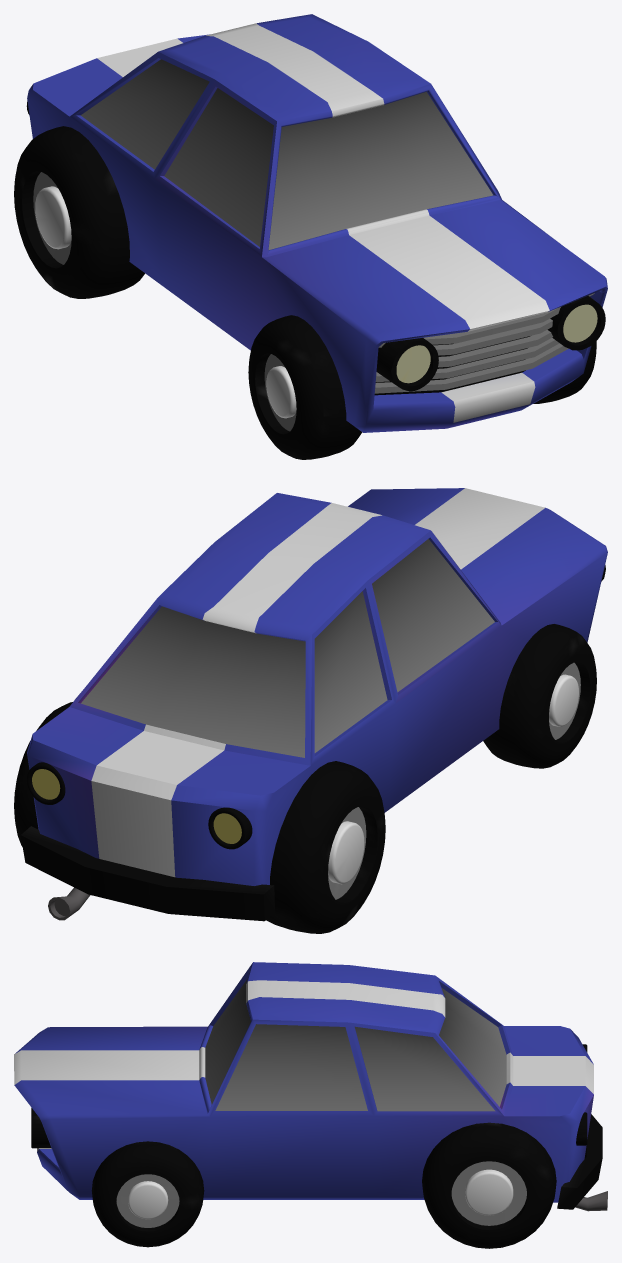
The model's file is carro2.fbx.
3 views of the same model, one above another, from view 1: azimuth 30°, elevation 25°; view 2: azimuth 150°, elevation 25°; view 3: azimuth 270°, elevation 25° (orthographic). The views are drawn at different scales.
Visible parts, largest first — view 1: Carro.Azul; view 2: Carro.Azul; view 3: Carro.Azul.
Part boxes in pixels (<box>): Carro.Azul: <box>14,14,607,459</box>; Carro.Azul: <box>14,488,607,933</box>; Carro.Azul: <box>14,962,607,1248</box>.
Size of the model in its own units: 254 by 218 by 557.
